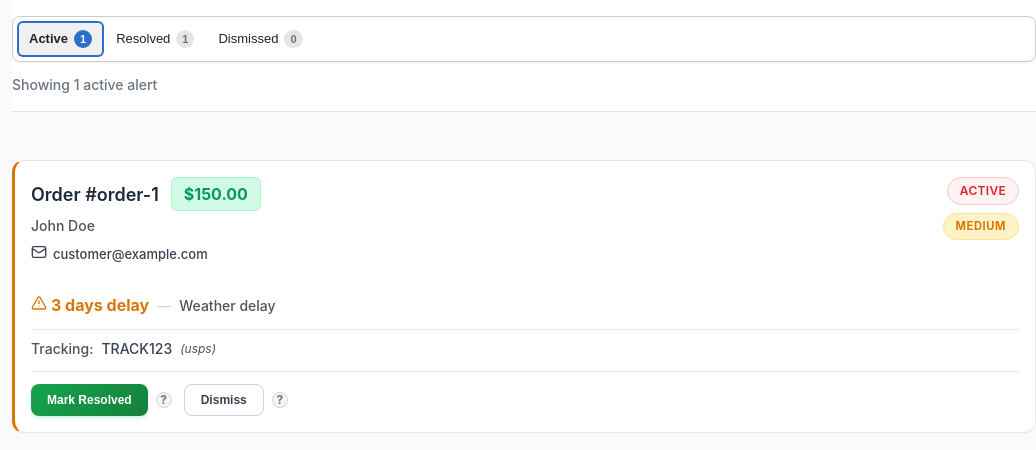
Test: AlertsTab Component › Tab-Specific Empty States › should show dismissed empty state when no dismissed alerts
The image size is (1036, 450).
// Click Dismissed tab
Step 1. Click the text "Dismissed" → (248, 39), box left=218, top=29, right=278, bottom=49
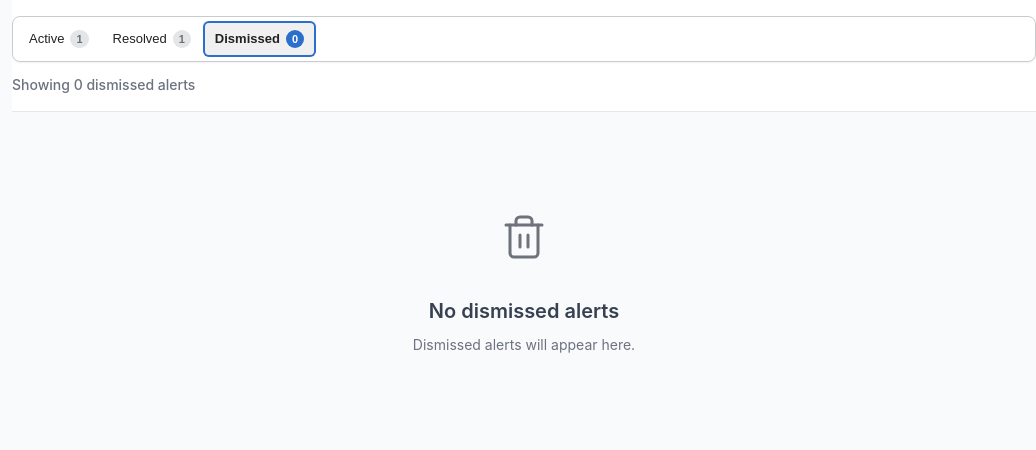
Result: the heading "No dismissed alerts" is shown at left=429, top=296, right=619, bottom=326
Result: the text "Dismissed alerts will appear here." is shown at left=413, top=334, right=635, bottom=355
